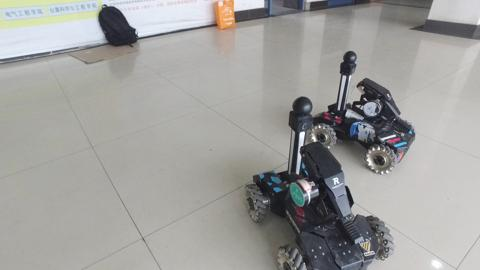bag: (94, 3, 148, 52)
chariot: (241, 95, 397, 270), (302, 49, 419, 175)
